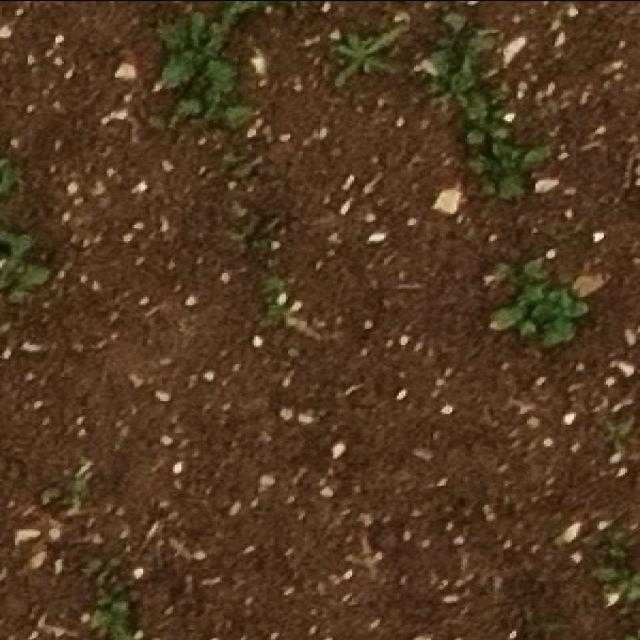cirse: (328, 17, 421, 91), (313, 17, 408, 89), (336, 16, 430, 85)
